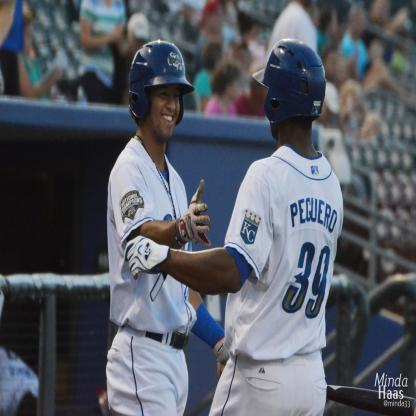Helmet: (260, 34, 328, 146), (129, 39, 193, 129)
